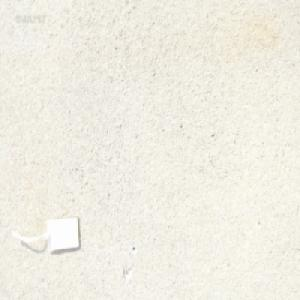LuggageTag: (11, 214, 83, 257)
